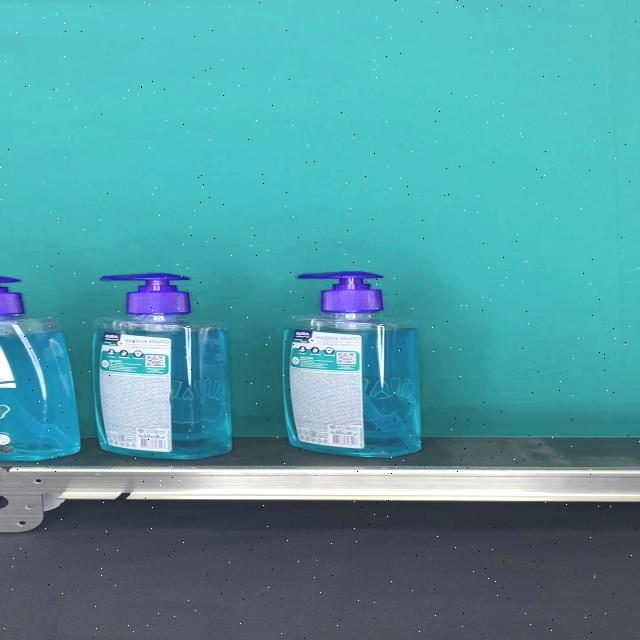Bottle: (93, 273, 232, 459), (282, 271, 421, 457)
Cap: (100, 273, 191, 316), (296, 271, 385, 313)
